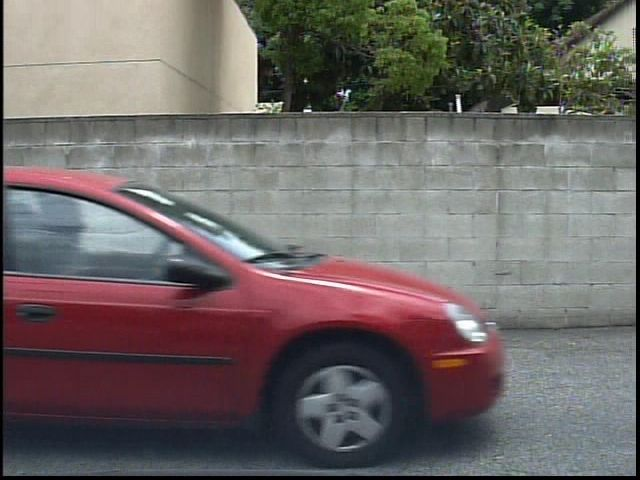car: (0, 172, 524, 478)
